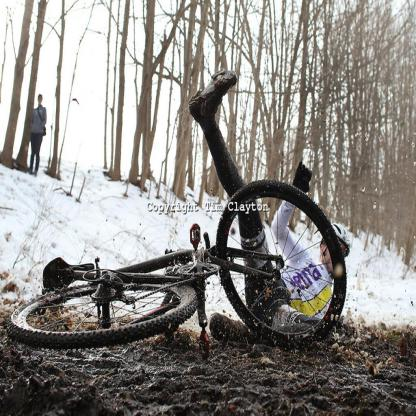face: (326, 242, 347, 276), (39, 96, 43, 103)
